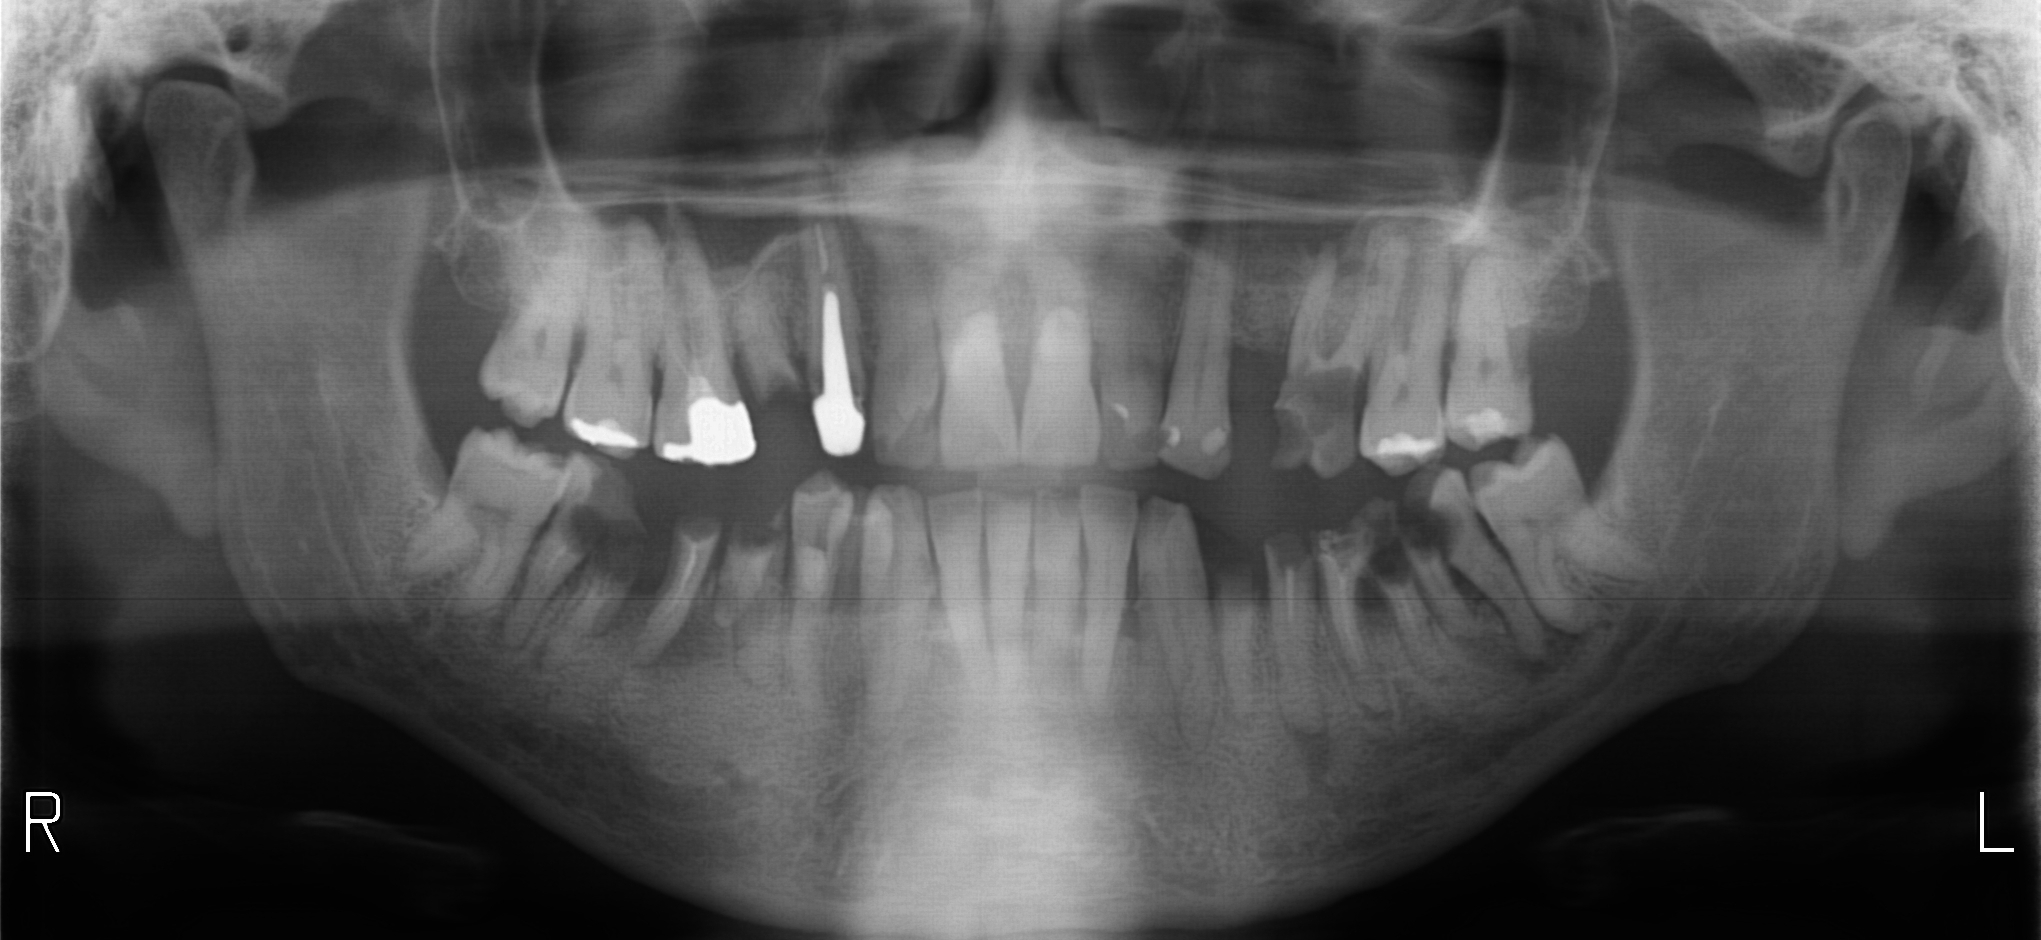cavity: (1276, 355, 1352, 477), (568, 501, 643, 588), (1395, 493, 1462, 549), (1369, 519, 1415, 582), (1101, 408, 1138, 454), (1505, 324, 1531, 372), (1268, 530, 1313, 556), (1130, 430, 1153, 454), (815, 512, 827, 547), (1326, 536, 1352, 549), (1158, 430, 1164, 447)
